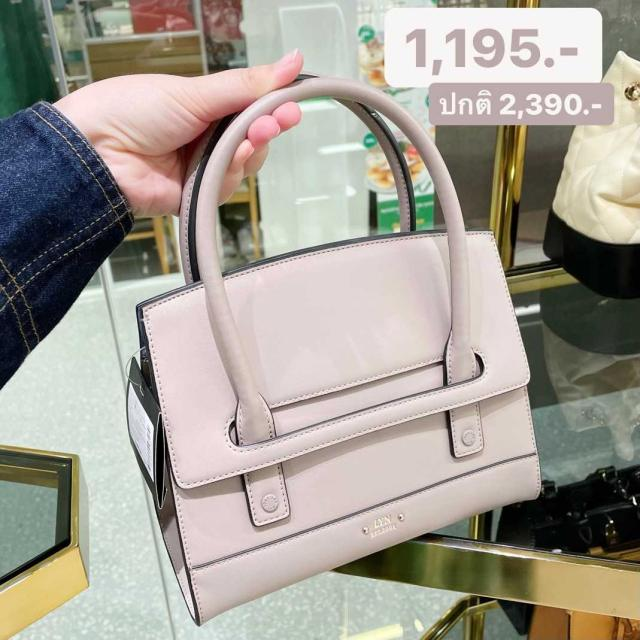handbag: (121, 217, 548, 640)
